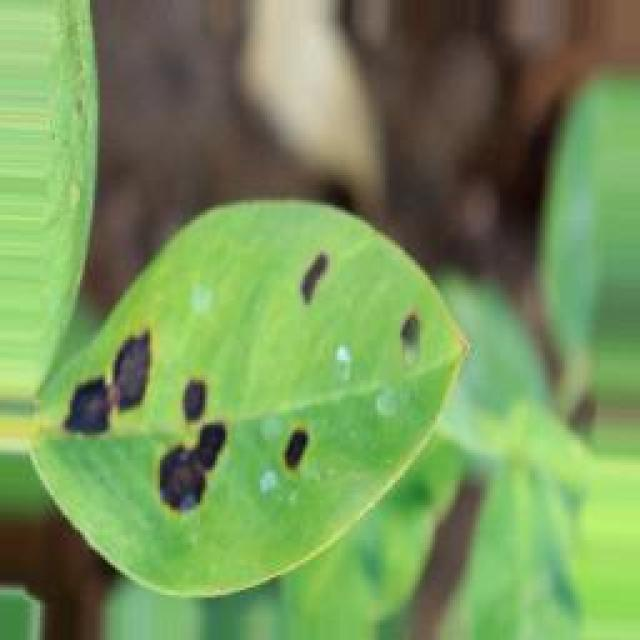Yellowish: (32, 180, 441, 574)
